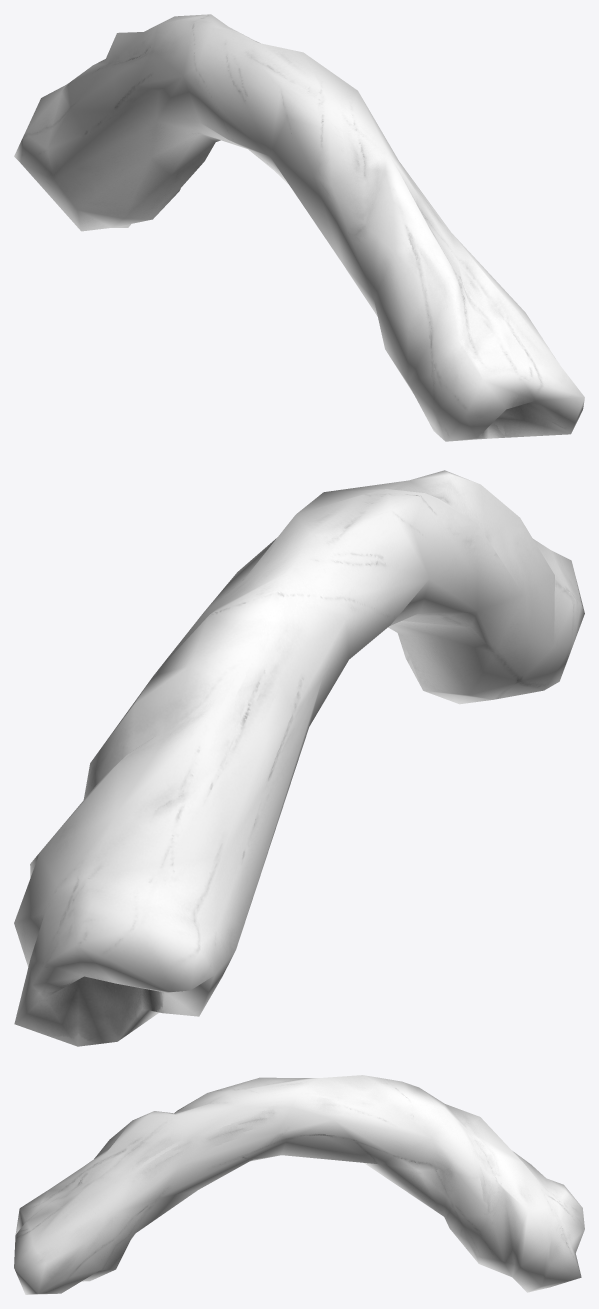
The picture shows the model from 3 angles, top to bottom: view 1: azimuth 30°, elevation 25°; view 2: azimuth 150°, elevation 25°; view 3: azimuth 270°, elevation 25°; orthographic projection. The views are drawn at different scales.
Visible parts, largest first — view 1: lowPoly_Cube.001; view 2: lowPoly_Cube.001; view 3: lowPoly_Cube.001.
Part boxes in pixels (x1,y1,x2,y2): lowPoly_Cube.001: [14, 14, 584, 441]; lowPoly_Cube.001: [14, 470, 584, 1046]; lowPoly_Cube.001: [14, 1075, 584, 1294].
Bounding box in the file's own units: 2.65 × 3.72 × 9.26.
1 material, 1 textured.
